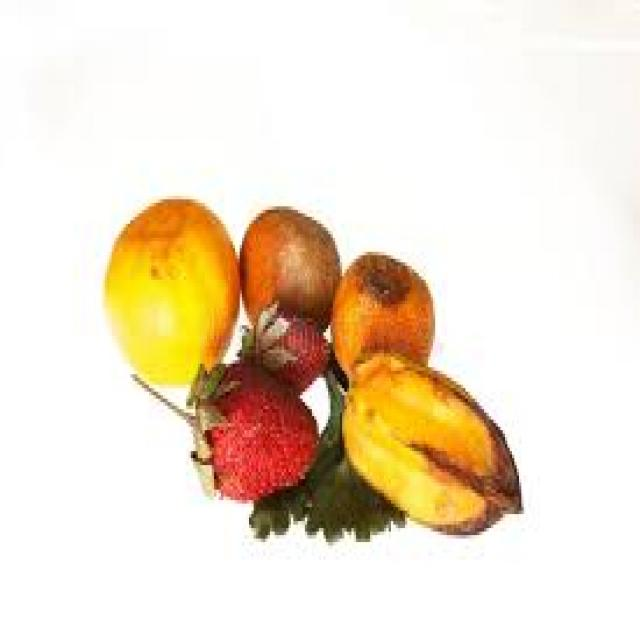organic waste: (338, 350, 522, 538), (247, 364, 407, 542), (100, 196, 240, 385), (184, 360, 319, 504), (328, 252, 433, 388), (233, 210, 340, 339), (235, 301, 328, 398)
